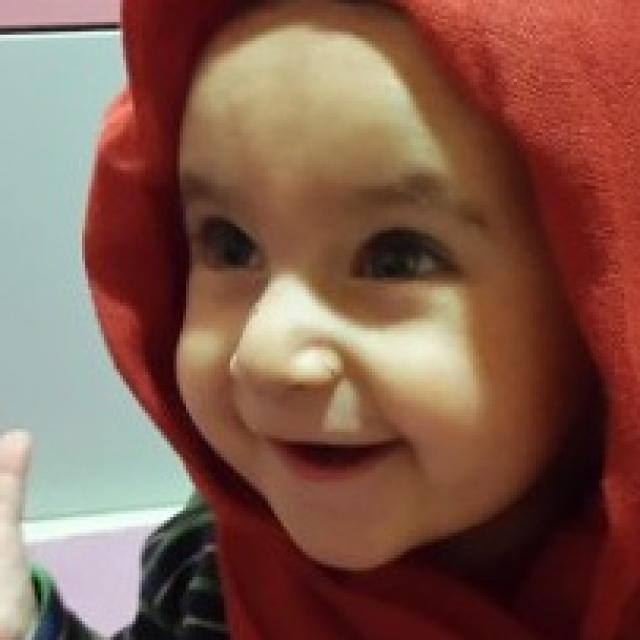Normal: (174, 2, 587, 572)
